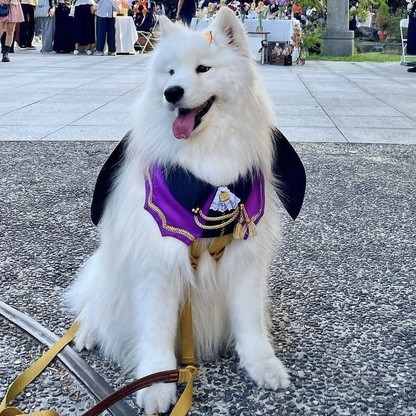samoyed: (59, 2, 312, 416)
